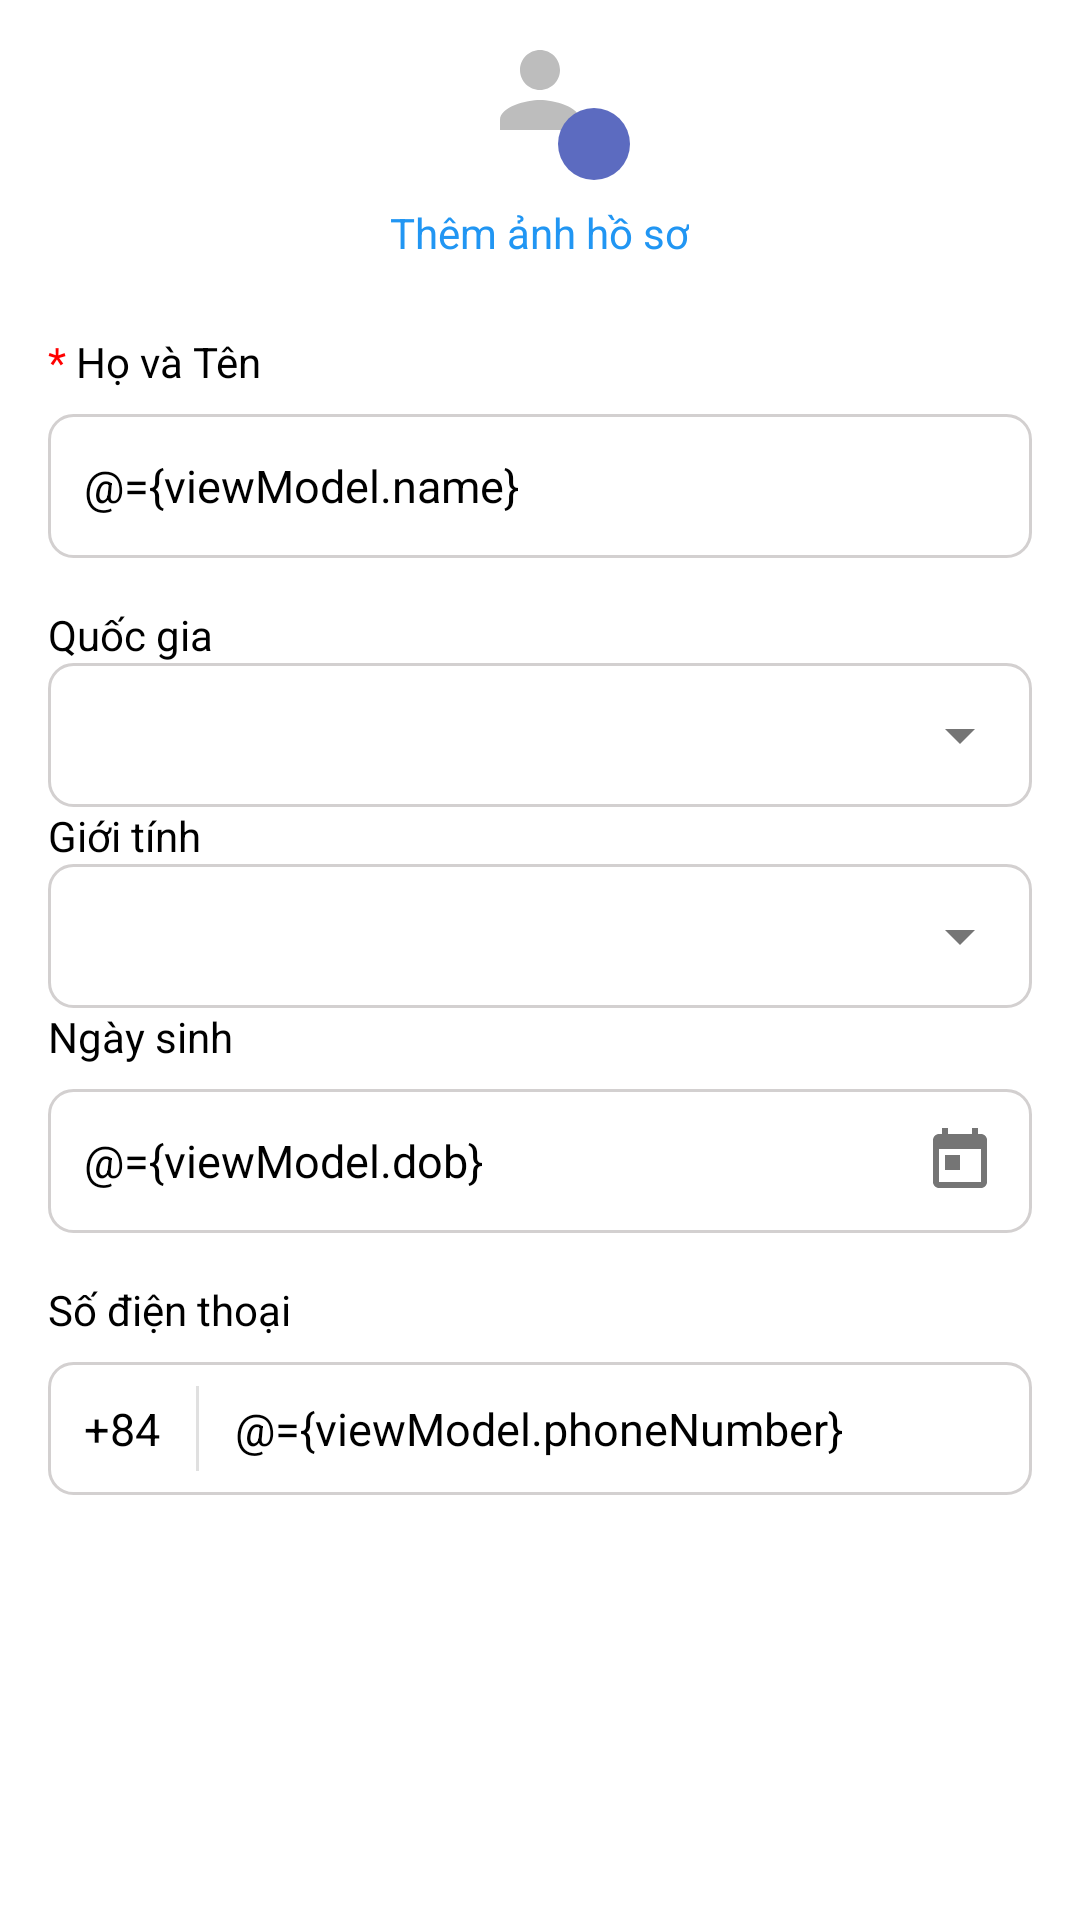

Locate icon controls on the screen. Image size 1080px×1920px, boxes as (left=x1, top=y1, right=x2, bottom=y2).
dropdown: (left=945, top=729, right=975, bottom=744), (left=945, top=930, right=975, bottom=945)
person: (left=500, top=50, right=630, bottom=180)
